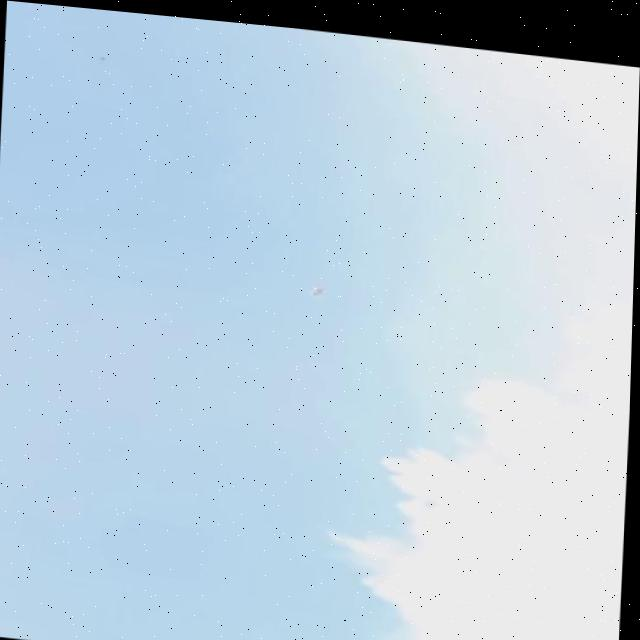drones: (306, 276, 333, 291)
